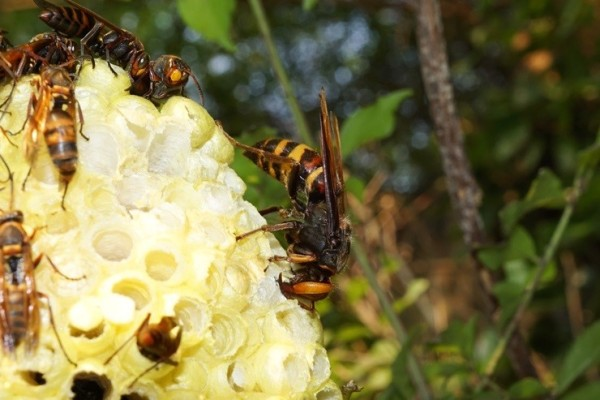asian_giant_hornet: (239, 135, 352, 306), (38, 1, 151, 85), (26, 64, 86, 188), (1, 203, 46, 350), (146, 50, 206, 114)
